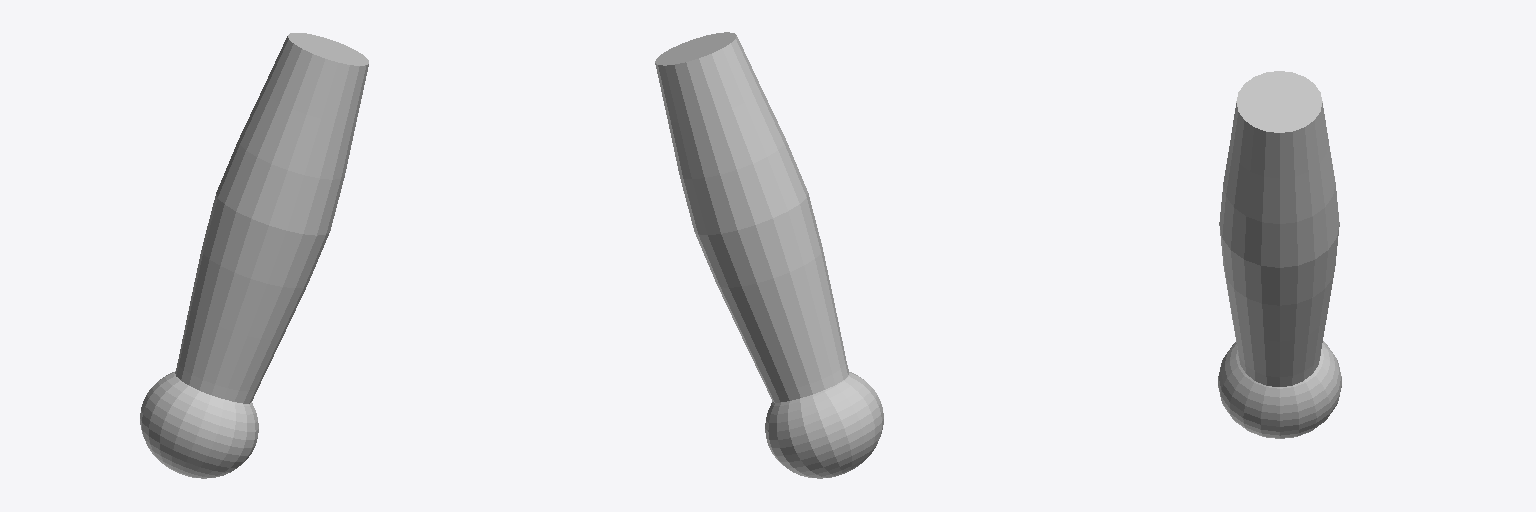
File: handR.obj
3 views of the same model, side by side, from view 1: azimuth 30°, elevation 25°; view 2: azimuth 150°, elevation 25°; view 3: azimuth 270°, elevation 25° (orthographic).
Visible parts, largest first — view 1: handR:pCylinder5; view 2: handR:pCylinder5; view 3: handR:pCylinder5.
Part boxes in pixels (x1,y1,x2,y2): handR:pCylinder5: (140,33,368,478); handR:pCylinder5: (655,32,883,478); handR:pCylinder5: (1218,71,1341,438).
Size of the model in its own units: 2.79 by 5.06 by 1.41.